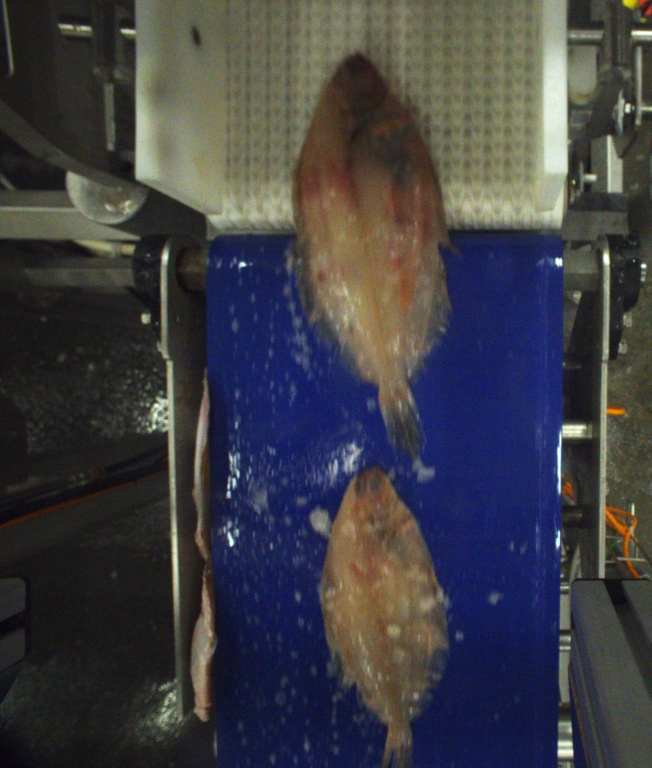WIT: (319, 463, 451, 763)
